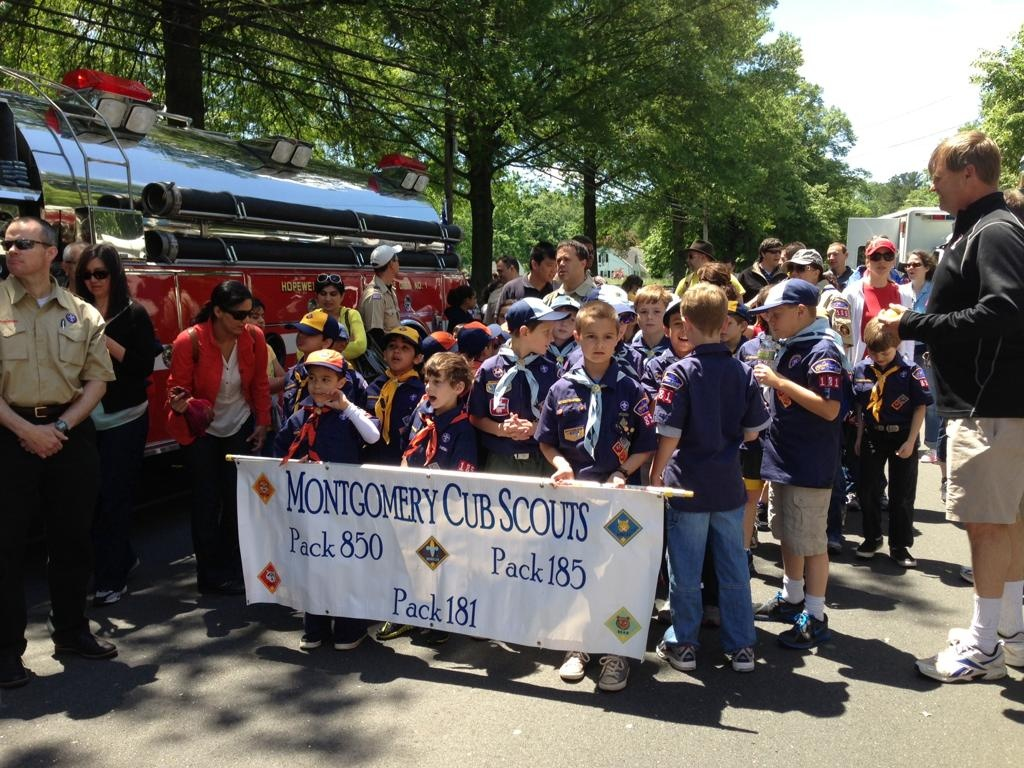human_face: (929, 152, 965, 210), (6, 222, 46, 274), (579, 315, 617, 361), (306, 364, 338, 404), (668, 310, 700, 350), (424, 366, 454, 406), (767, 296, 797, 336), (82, 256, 110, 294), (386, 332, 414, 370), (222, 298, 250, 334), (528, 316, 554, 354), (551, 304, 577, 338), (556, 246, 580, 282), (637, 298, 665, 328), (866, 244, 894, 274), (867, 338, 895, 366), (296, 322, 322, 352), (789, 259, 813, 289), (316, 284, 342, 310), (69, 251, 93, 279), (719, 312, 739, 342), (538, 254, 558, 282), (576, 241, 594, 269), (247, 306, 265, 332), (498, 304, 516, 330), (906, 253, 924, 279), (826, 246, 844, 266), (496, 260, 510, 284), (490, 336, 506, 356), (686, 246, 700, 268), (777, 248, 789, 270), (620, 309, 634, 327), (766, 246, 778, 264), (390, 249, 398, 274), (467, 290, 477, 306), (718, 262, 730, 274)
